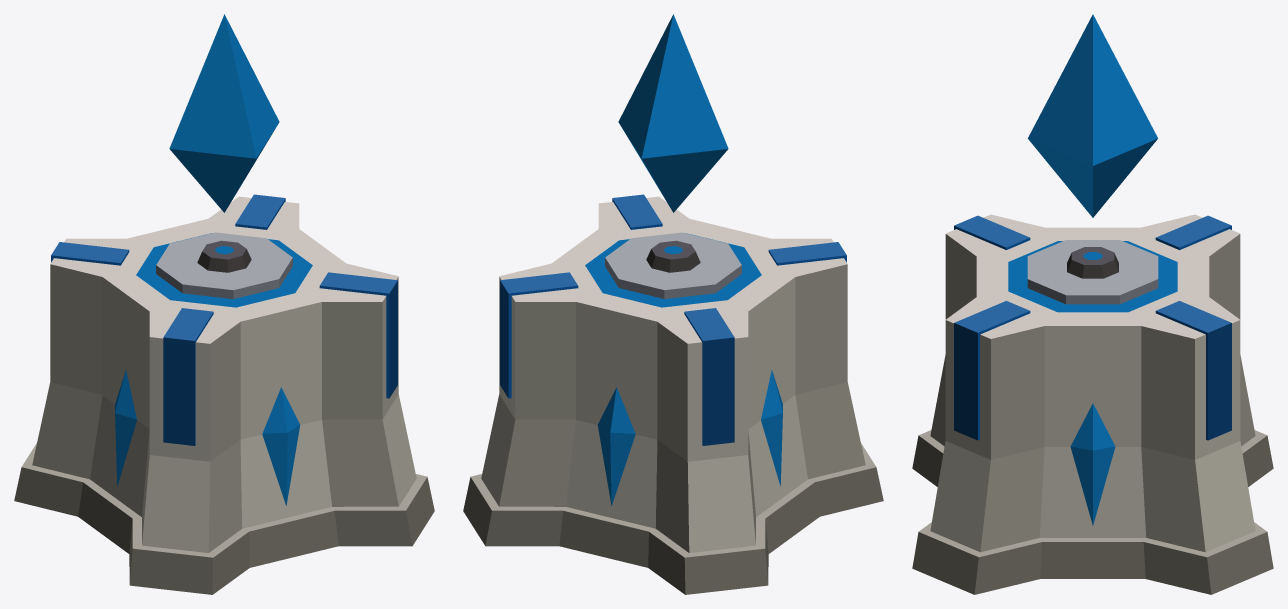
File: TB_MageTower_Lvl2.FBX
3 renders of one model, left to right at view 1: azimuth 30°, elevation 25°; view 2: azimuth 150°, elevation 25°; view 3: azimuth 270°, elevation 25°, orthographic. The views are drawn at different scales.
Visible parts, largest first — view 1: TB_MageTower_Lvl2, TB_MageTower_Lvl2_Crystal; view 2: TB_MageTower_Lvl2, TB_MageTower_Lvl2_Crystal; view 3: TB_MageTower_Lvl2, TB_MageTower_Lvl2_Crystal.
Boxes of the visible parts, x1,y1,x2,y2 form: TB_MageTower_Lvl2: [14, 194, 434, 594]; TB_MageTower_Lvl2_Crystal: [169, 14, 279, 212]; TB_MageTower_Lvl2: [463, 194, 883, 594]; TB_MageTower_Lvl2_Crystal: [618, 14, 728, 212]; TB_MageTower_Lvl2: [912, 214, 1273, 594]; TB_MageTower_Lvl2_Crystal: [1028, 14, 1157, 217].
Size of the model in its own units: 7.48 by 11.52 by 7.48.
